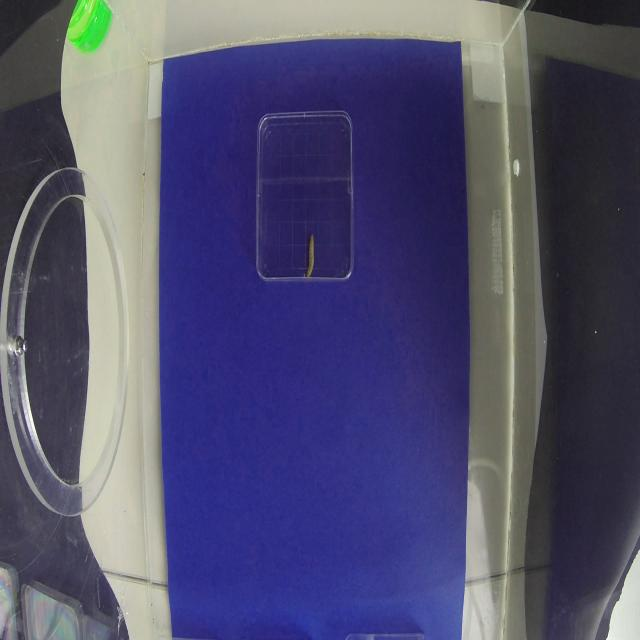larva: (306, 235, 315, 276)
